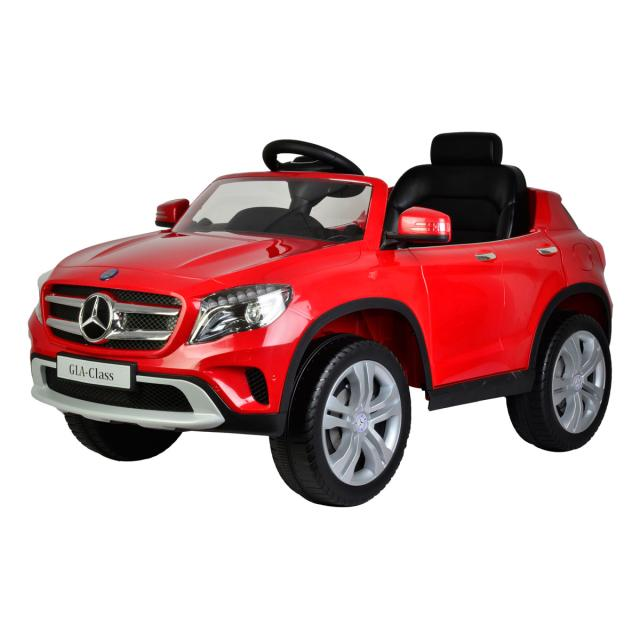Car: (27, 130, 614, 508)
